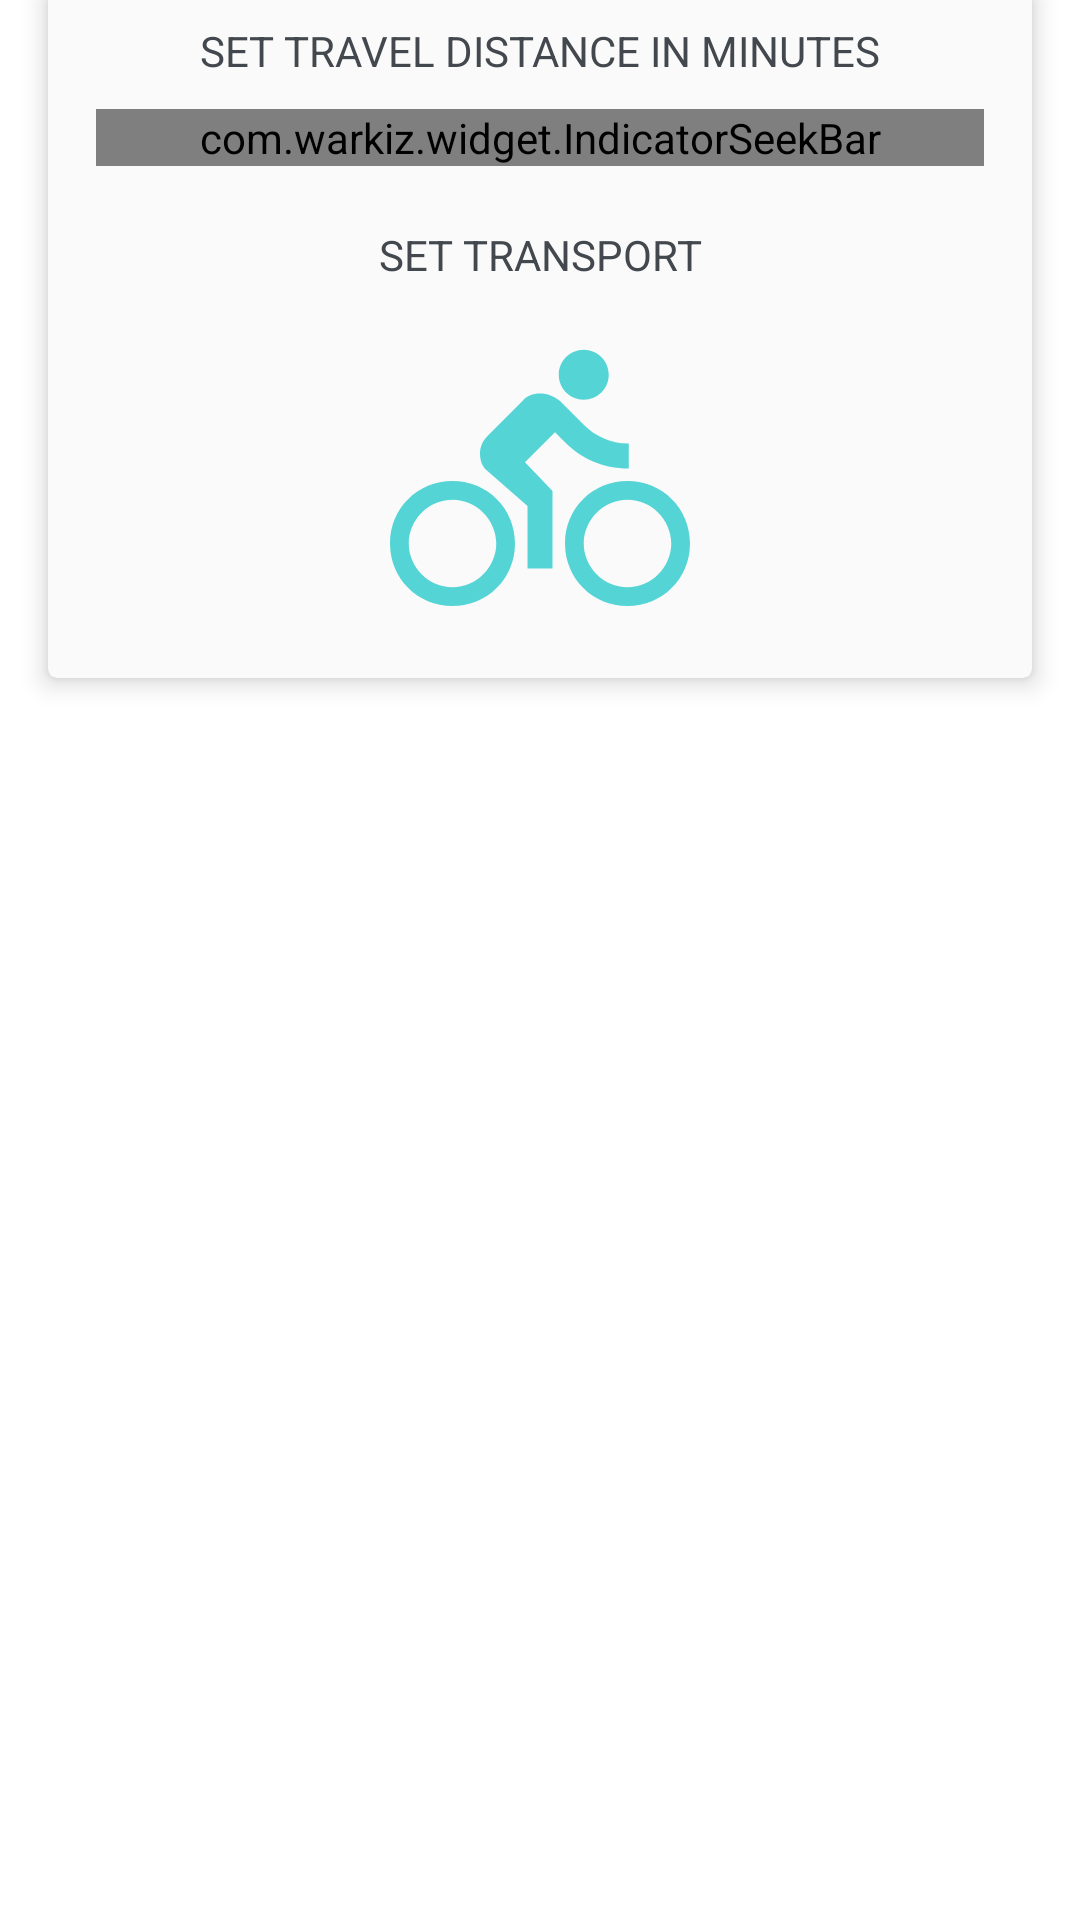

Screen size 1080w x 1920h. Icon name, then its box in pixels as [left=x1, top=y1, right=x2, bottom=y2]:
set bike as transport: [left=390, top=349, right=690, bottom=606]
